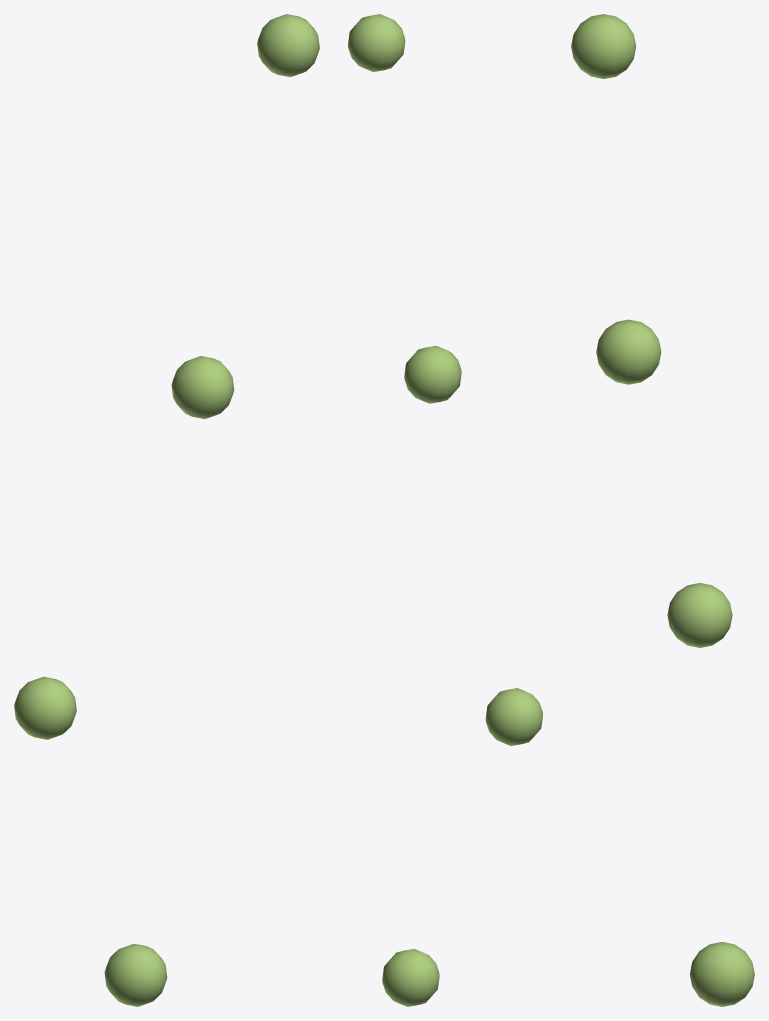
The model's file is inferior-superficial-inguinal-nodes-r.glb.
3 views of the same model, side by side, from view 1: azimuth 30°, elevation 25°; view 2: azimuth 150°, elevation 25°; view 3: azimuth 270°, elevation 25° (orthographic). The views are drawn at different scales.
Parts seen in each view (by area): view 1: Inferior superficial inguinal nodes.r; view 2: Inferior superficial inguinal nodes.r; view 3: Inferior superficial inguinal nodes.r.
Boxes of the visible parts, bbox=[...] form: Inferior superficial inguinal nodes.r: bbox=[14, 14, 319, 1006]; Inferior superficial inguinal nodes.r: bbox=[348, 14, 542, 1006]; Inferior superficial inguinal nodes.r: bbox=[571, 14, 754, 1006].
Bounding box in the file's own units: 0.0119 × 0.0454 × 0.00732.
